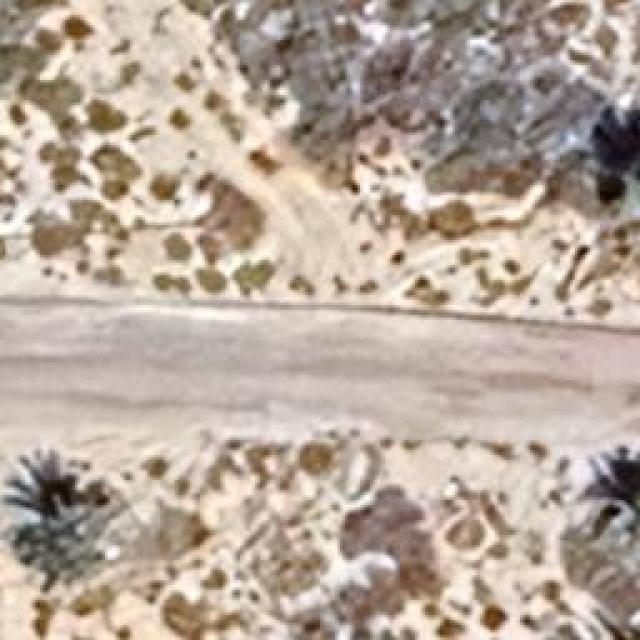PalmTree: (20, 472, 105, 588), (587, 440, 640, 570), (592, 104, 640, 206)
